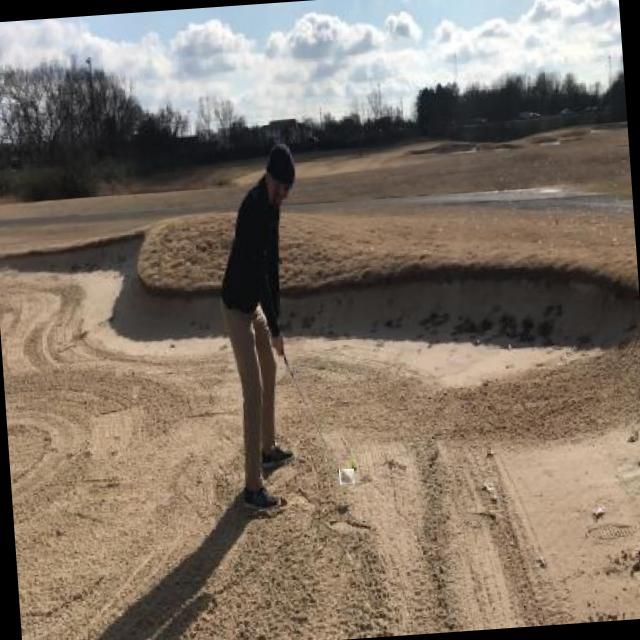club head: (338, 468, 354, 484)
